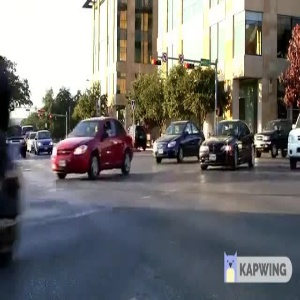car: (42, 115, 144, 180), (198, 122, 259, 164), (152, 119, 204, 161)
